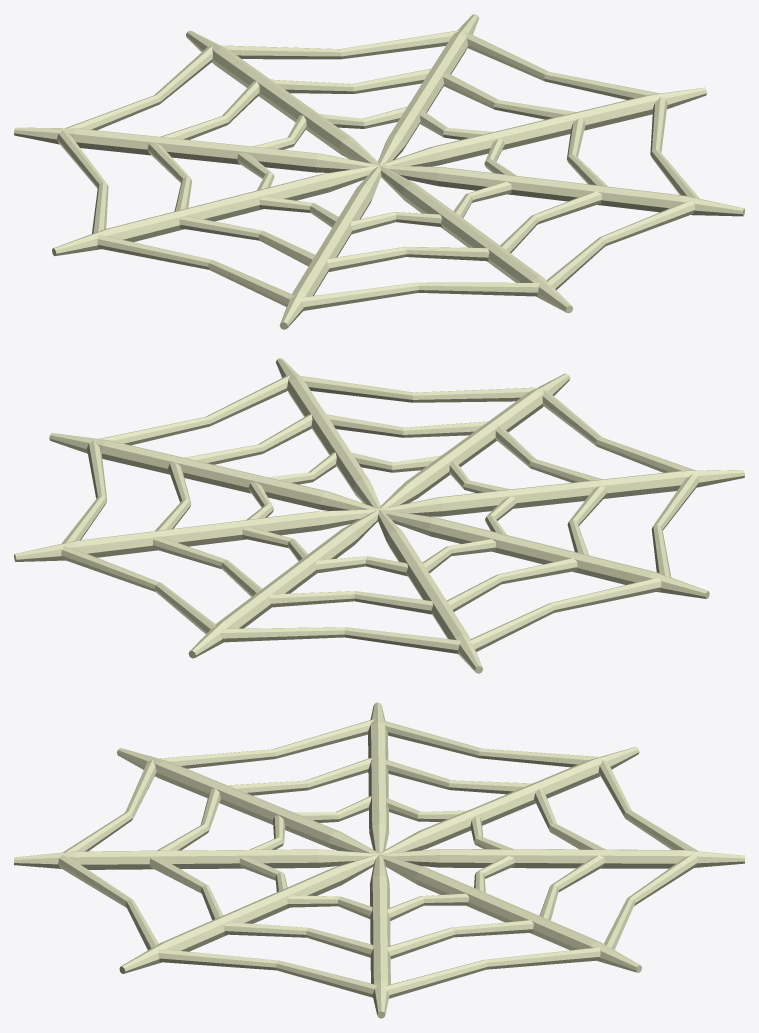
Rendered from Spider_web.fbx.
3 renders of one model, top to bottom at view 1: azimuth 30°, elevation 25°; view 2: azimuth 150°, elevation 25°; view 3: azimuth 270°, elevation 25°, orthographic. The views are drawn at different scales.
Visible parts, largest first — view 1: Cylinder.009; view 2: Cylinder.009; view 3: Cylinder.009.
Part boxes in pixels (bbox=[...]): Cylinder.009: bbox=[14, 14, 744, 329]; Cylinder.009: bbox=[14, 358, 744, 673]; Cylinder.009: bbox=[14, 702, 744, 1018].
Bounding box in the file's own units: 1084 × 32.26 × 1084.
